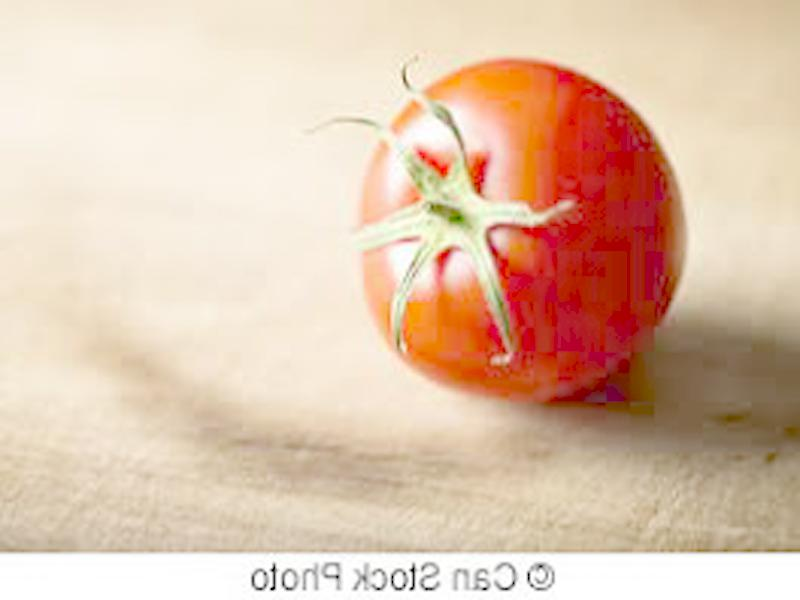Tomato: (354, 63, 684, 399)
